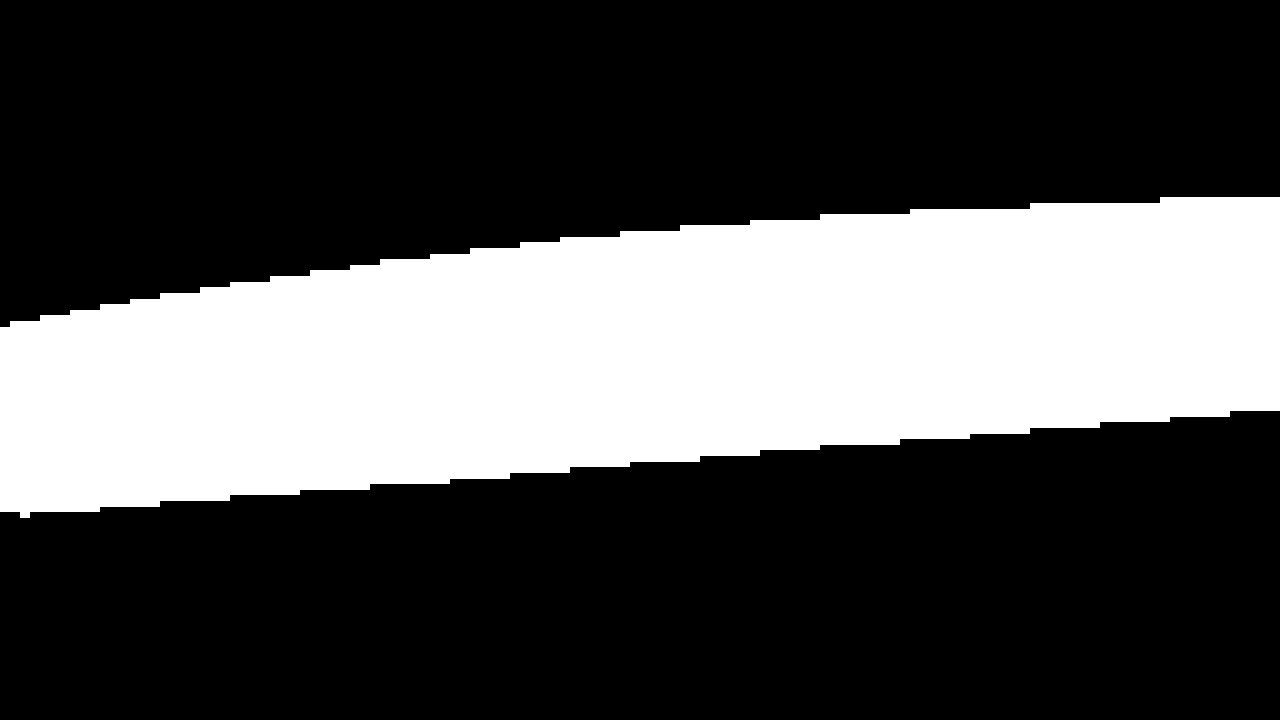Turbine: (3, 170, 1266, 532)
